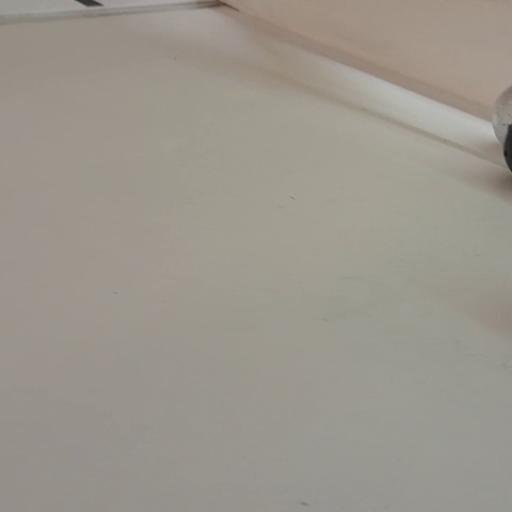alive: (493, 85, 512, 145)
dead: (504, 126, 512, 172)
